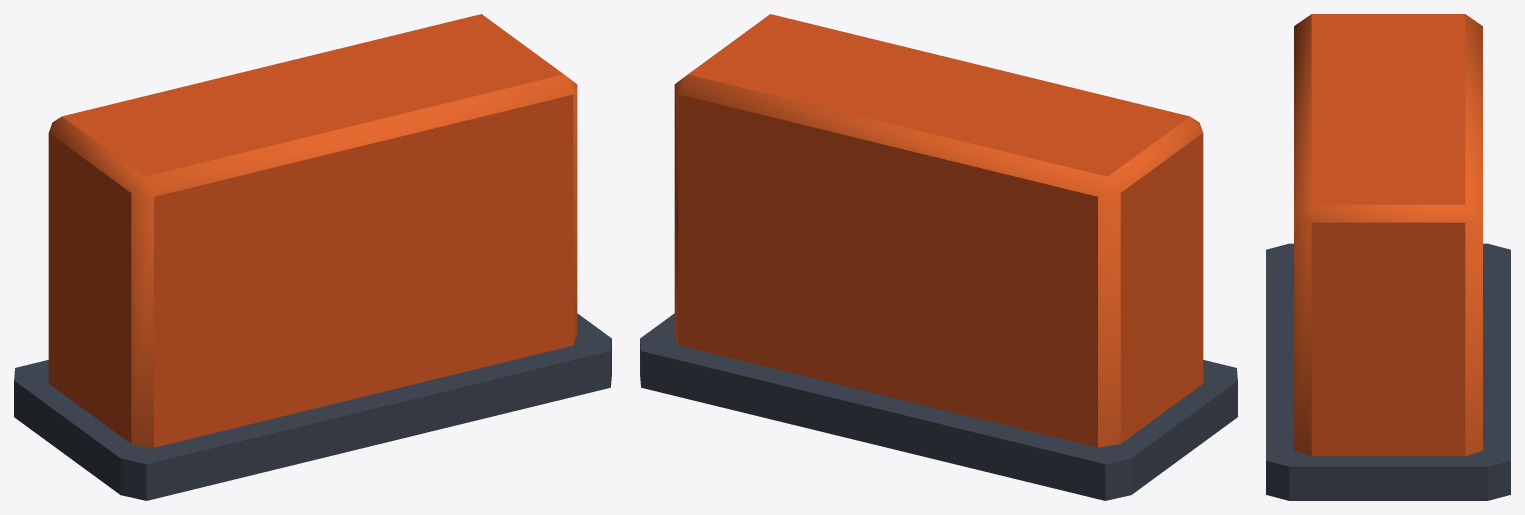
The model's file is ChimneyWall_1_B.fbx.
3 views of the same model, side by side, from view 1: azimuth 30°, elevation 25°; view 2: azimuth 150°, elevation 25°; view 3: azimuth 270°, elevation 25° (orthographic). The views are drawn at different scales.
Parts seen in each view (by area): view 1: ChimneyWall_1_B; view 2: ChimneyWall_1_B; view 3: ChimneyWall_1_B.
Part boxes in pixels (bbox=[...]): ChimneyWall_1_B: bbox=[14, 14, 611, 500]; ChimneyWall_1_B: bbox=[640, 14, 1237, 500]; ChimneyWall_1_B: bbox=[1266, 14, 1510, 500].
Size of the model in its own units: 244 by 143 by 113.
